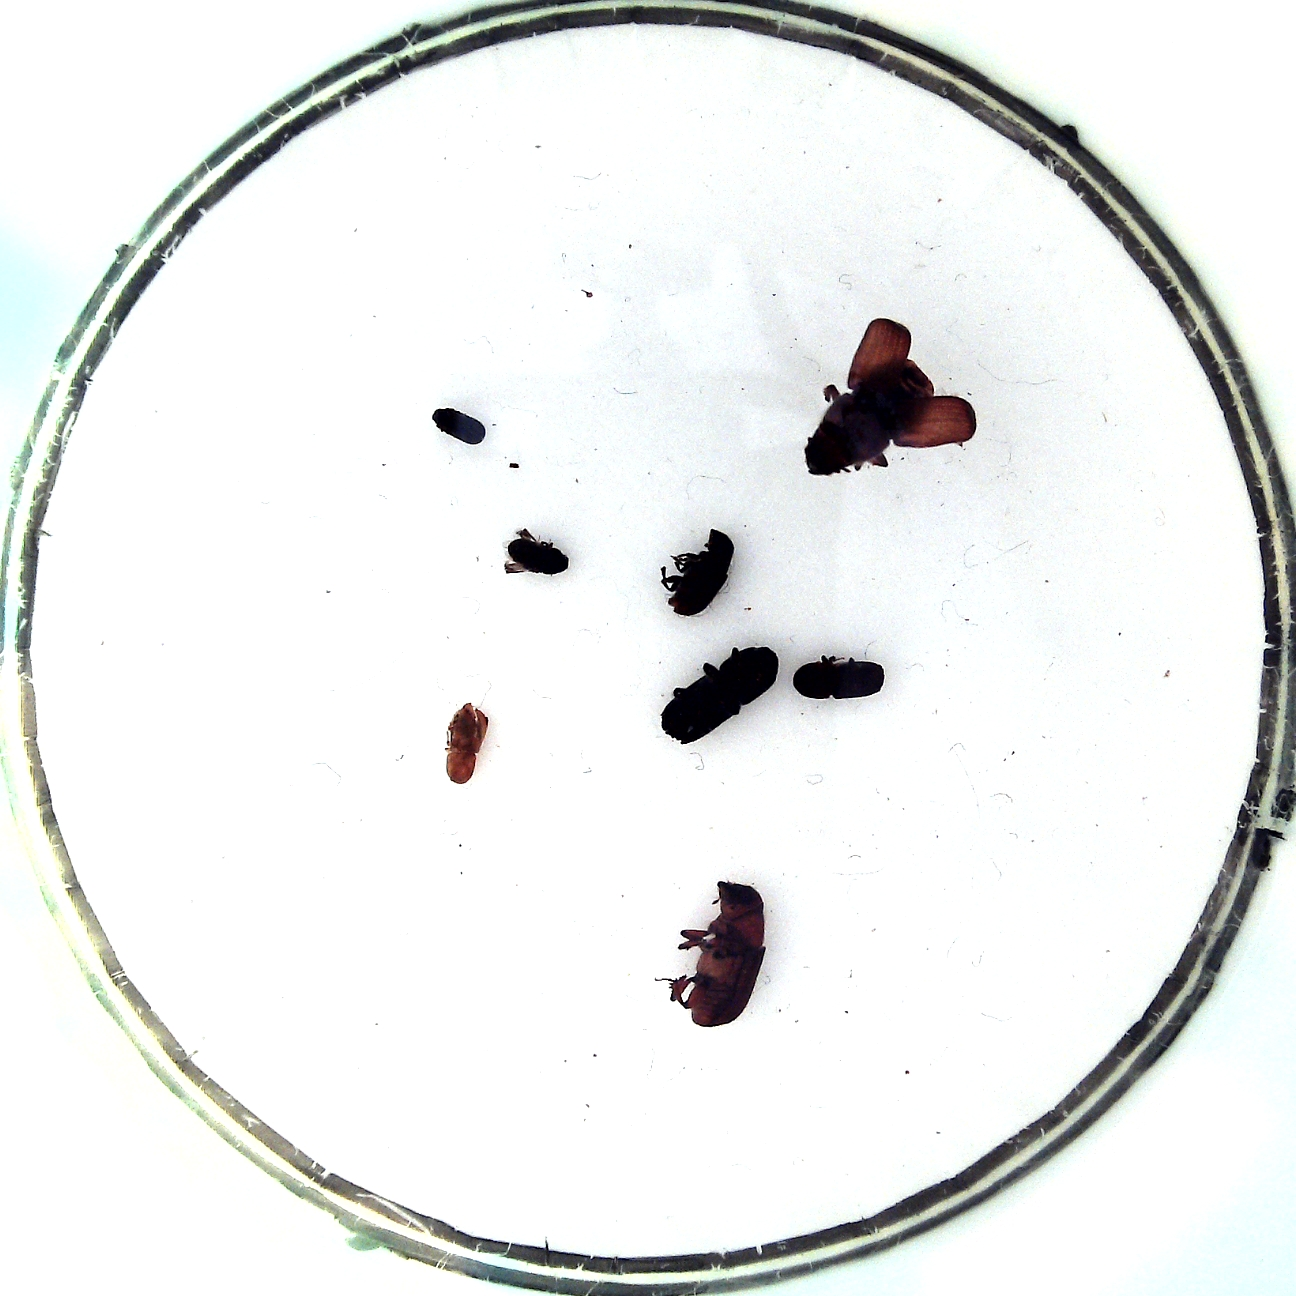Boerner: (659, 644, 779, 745)
Leconte: (805, 361, 935, 476), (687, 879, 768, 1027)
acuminatus: (507, 536, 568, 574)
armandi: (665, 528, 733, 615)
coleoptera: (445, 703, 489, 784), (431, 408, 487, 446)
linnaeus: (793, 659, 885, 700)
